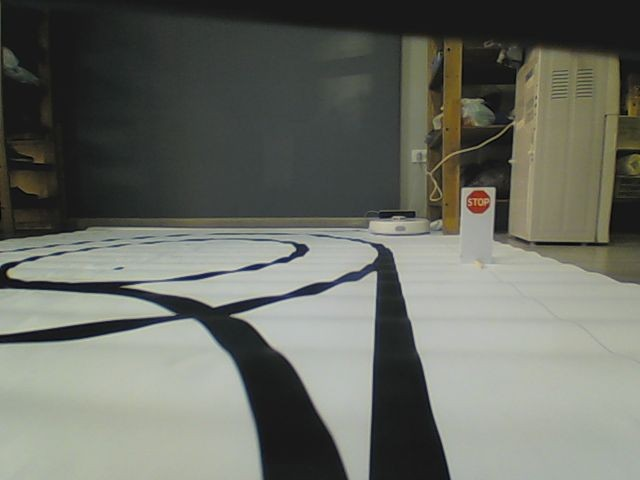Stop: (464, 188, 493, 217)
